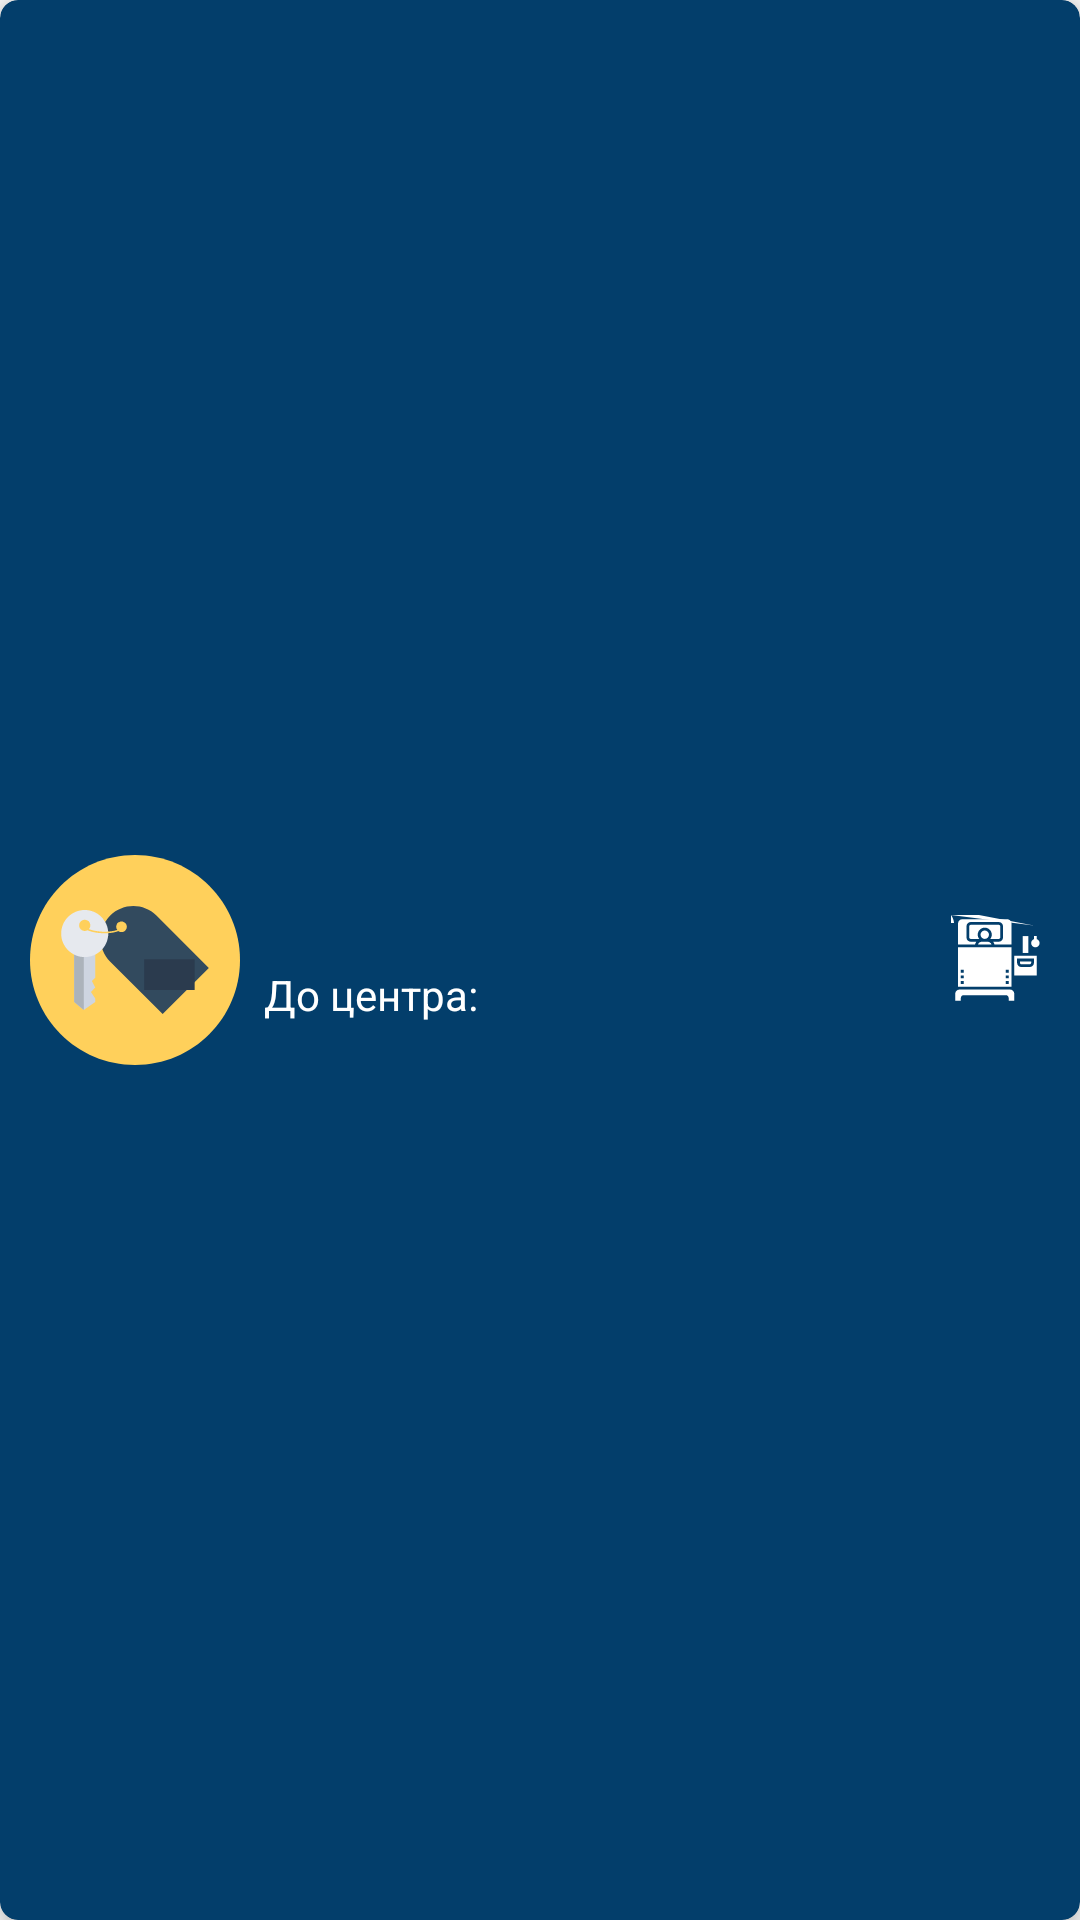

Screen size 1080x1920. Icon name, then its box in pixels as (x1, y1, x2, y2):
hotel: (30, 855, 240, 1065)
